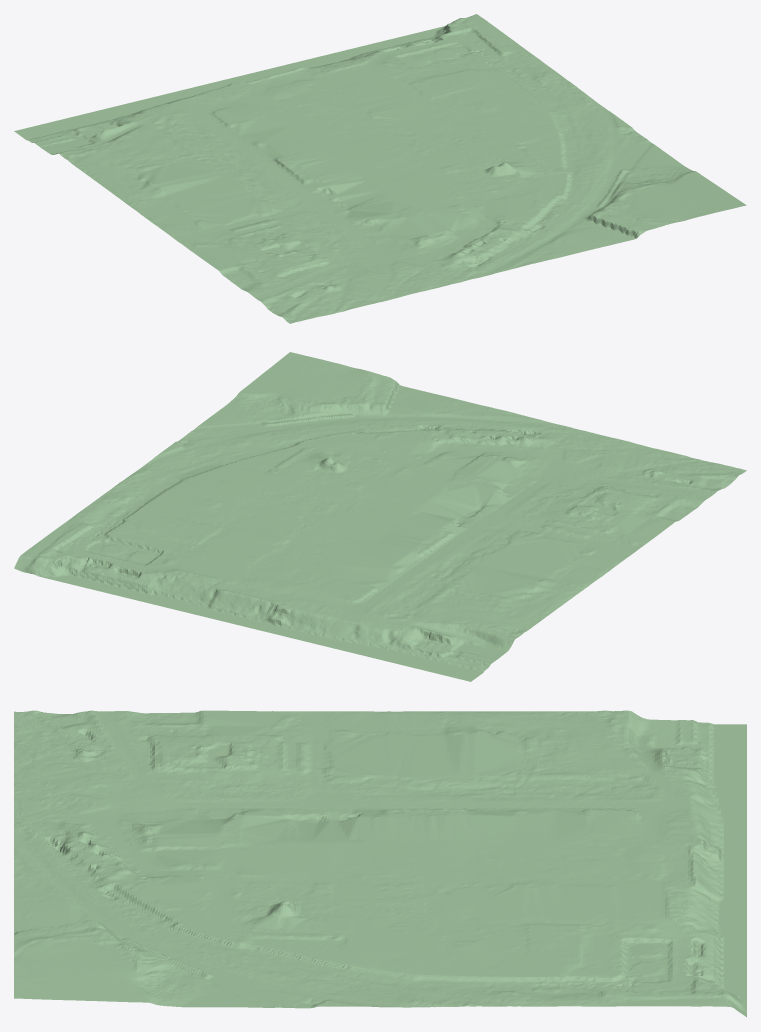
The model's file is dgm_ellipsoid_reference.glb.
The picture shows the model from 3 angles, top to bottom: view 1: azimuth 30°, elevation 25°; view 2: azimuth 150°, elevation 25°; view 3: azimuth 270°, elevation 25°; orthographic projection. The views are drawn at different scales.
Size of the model in its own units: 17.04 by 0.6713 by 17.83.
